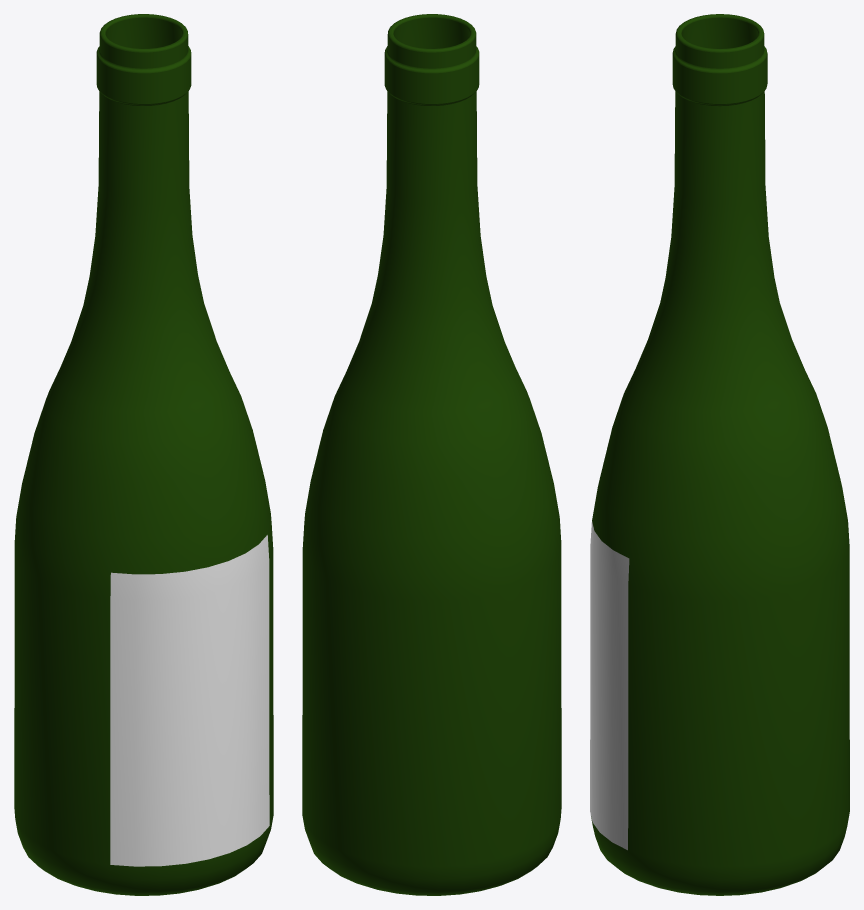
Rendered from buttle.fbx.
3 renders of one model, left to right at view 1: azimuth 30°, elevation 25°; view 2: azimuth 150°, elevation 25°; view 3: azimuth 270°, elevation 25°, orthographic.
Parts seen in each view (by area): view 1: butle; view 2: butle; view 3: butle.
Boxes of the visible parts, x1,y1,x2,y2 form: butle: [14, 14, 273, 895]; butle: [302, 14, 561, 895]; butle: [590, 14, 849, 895].
Bounding box in the file's own units: 8.62 × 29.96 × 8.62.
